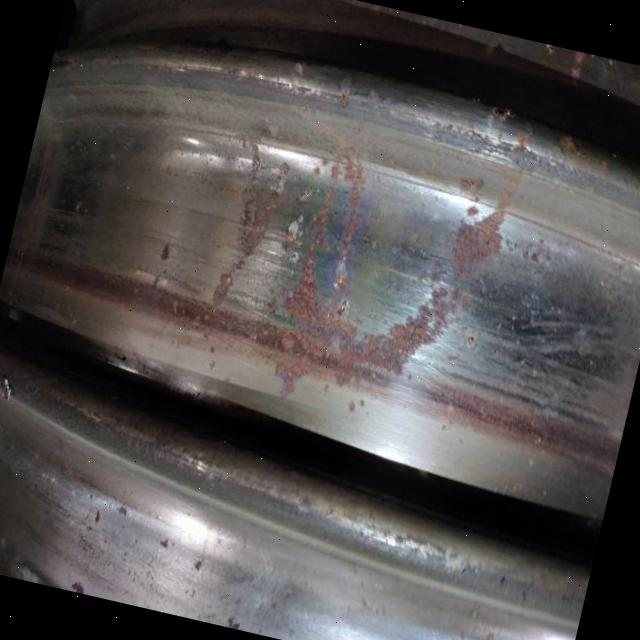Peeling: (277, 179, 322, 271)
